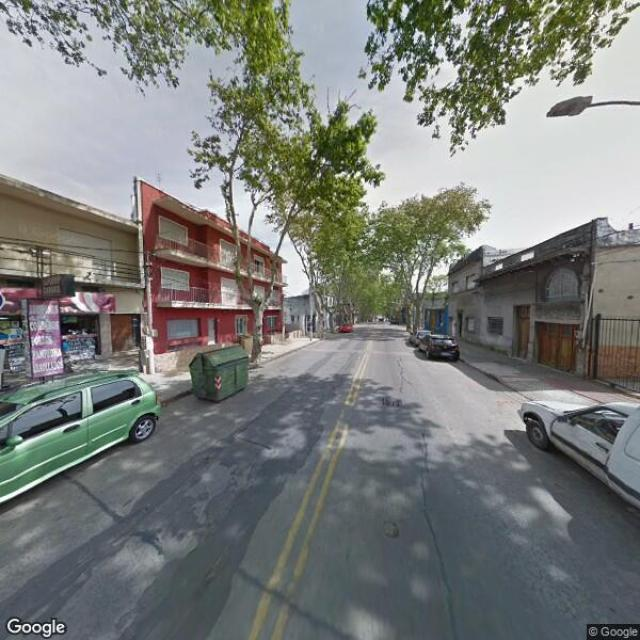garbage container: (186, 340, 258, 413)
